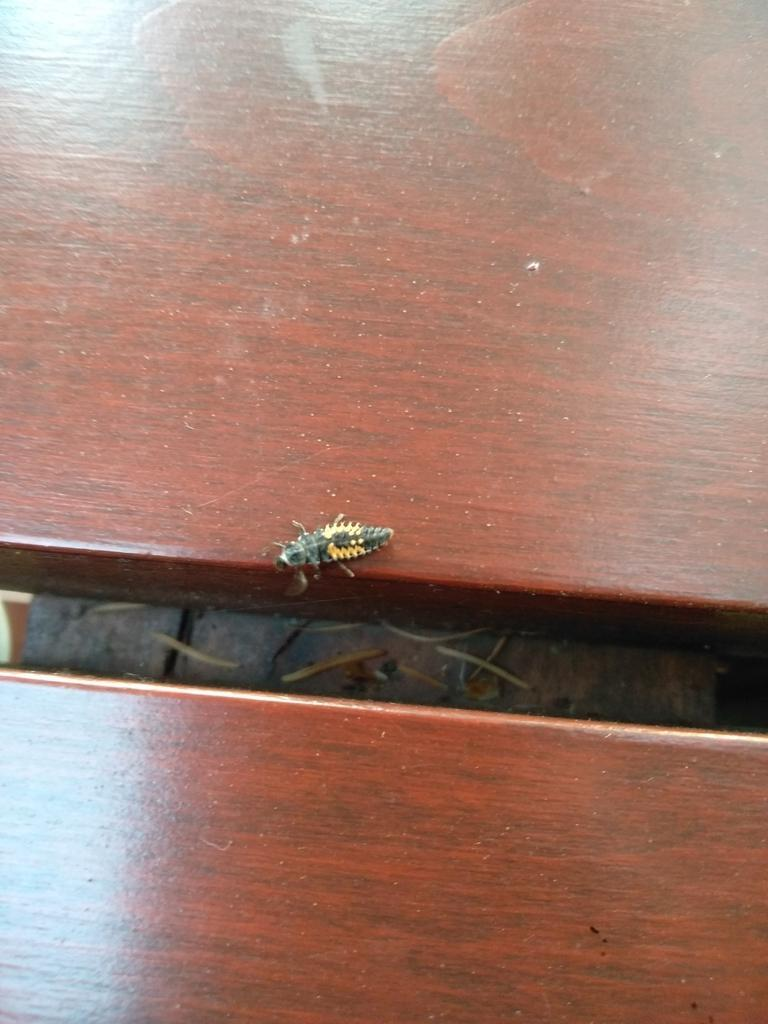ladybug: (271, 511, 401, 584)
